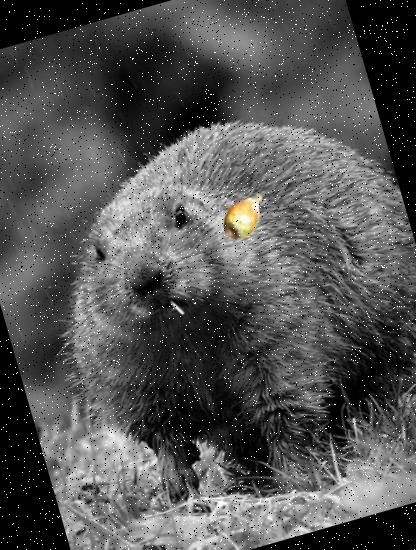Cactus: (210, 180, 278, 248)
